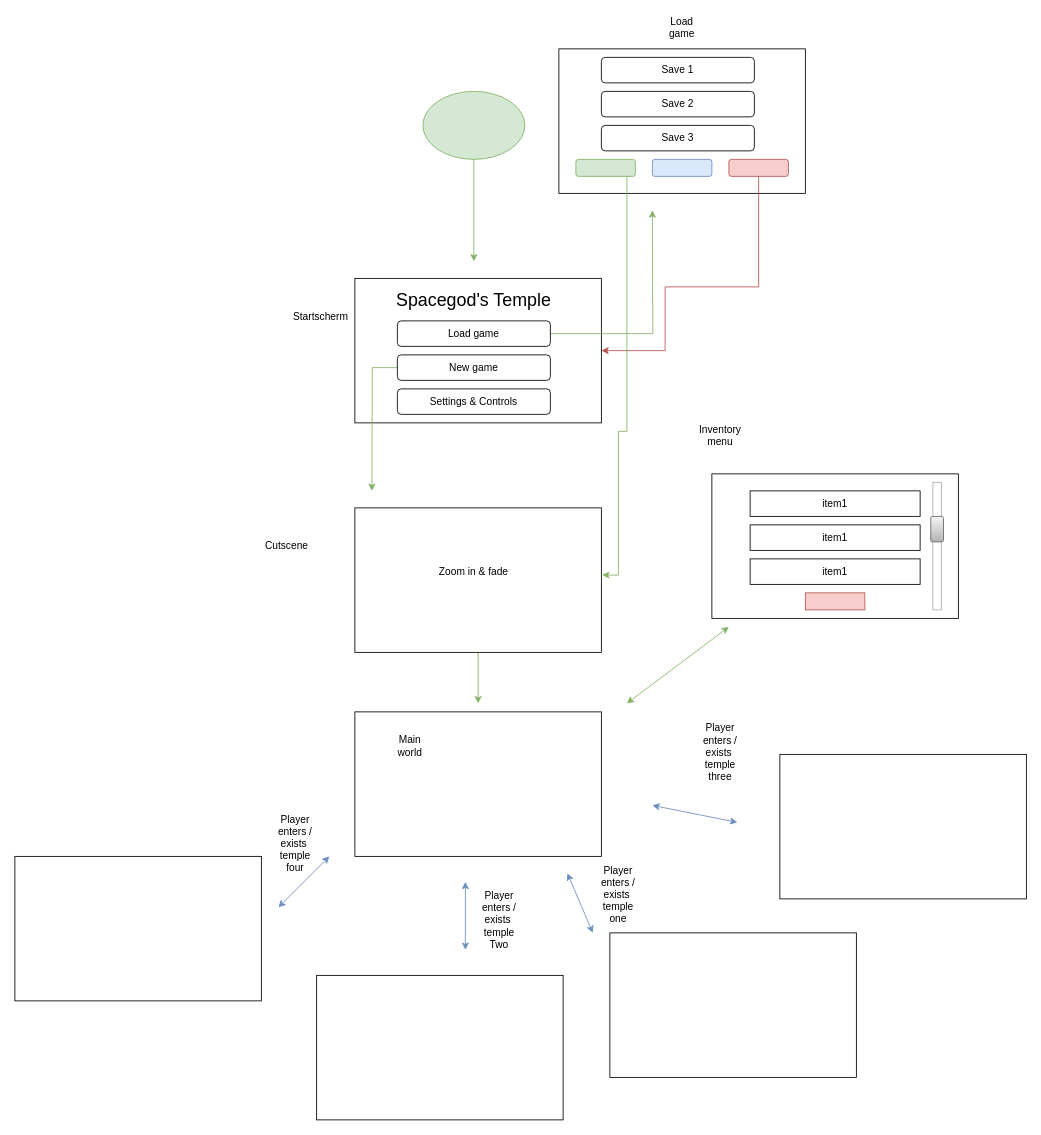
Image size: 1041x1135. Some labels were removed from this diagram. Here are the shapes that lost their labels. From the top down, the centre of each, then its label:
At (x=473, y=125): "START.".
At (x=605, y=167): "Load".
At (x=682, y=167): "Rename".
At (x=758, y=167): "Back".
At (x=835, y=601): "Exit".
